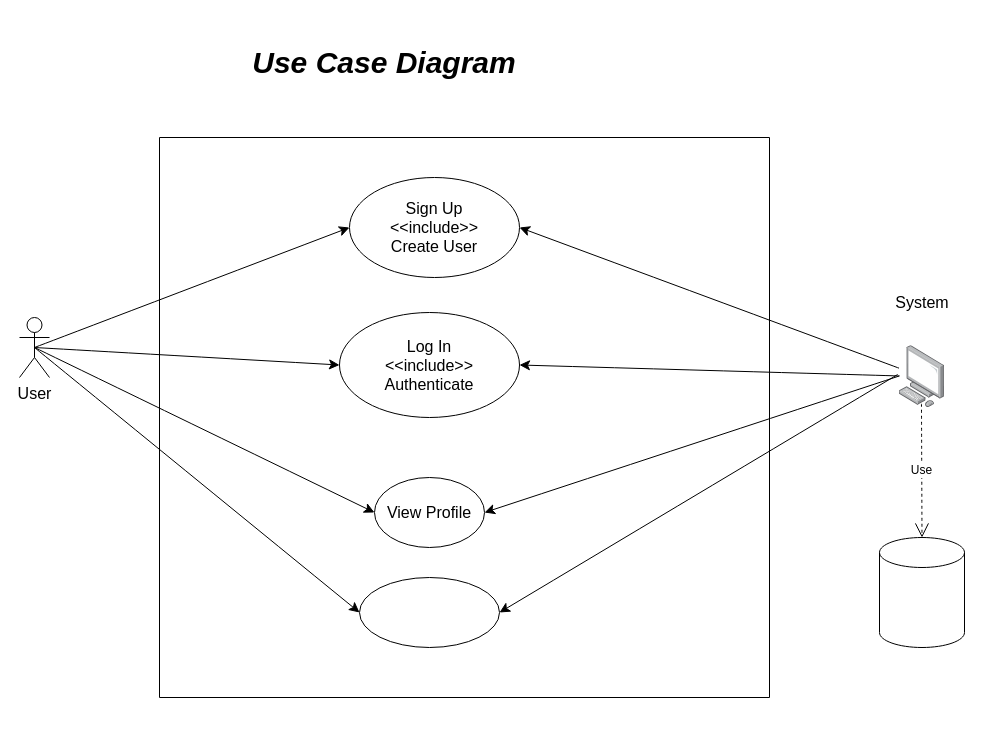
This 982x745 diagram has some shape labels left out. Here are the shapes that lost their labels. From the top down, the box of each, then its label:
(358, 576, 500, 648): Reset Password
(878, 536, 964, 648): Firebase
